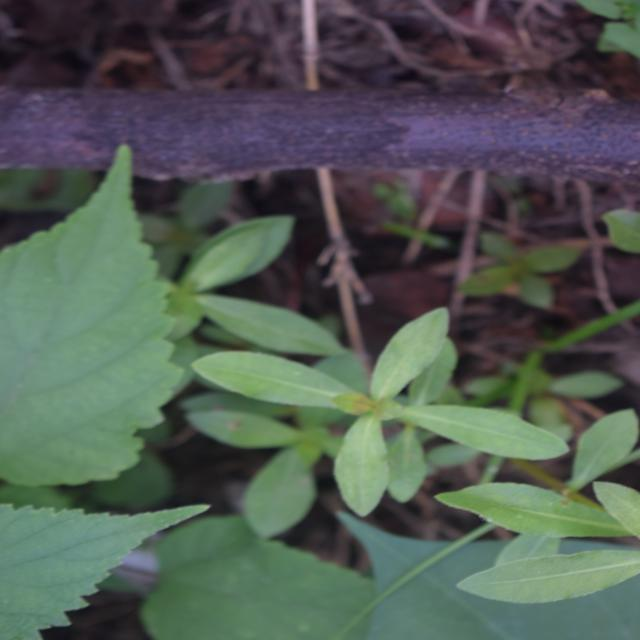Alligatorweed: (125, 214, 342, 555)
